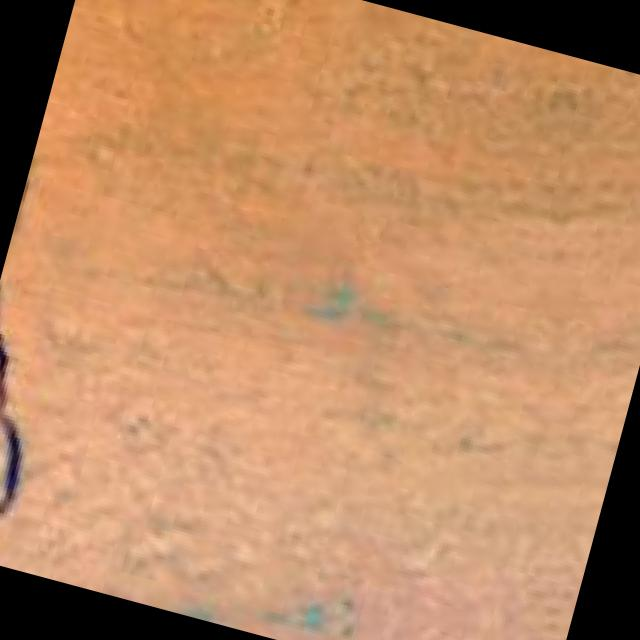crack: (0, 303, 104, 573)
